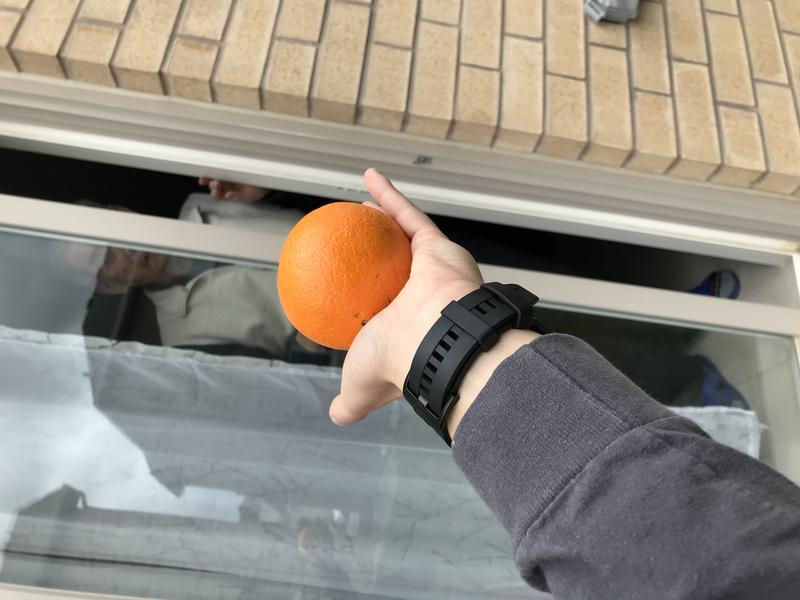orange: (267, 192, 418, 357)
